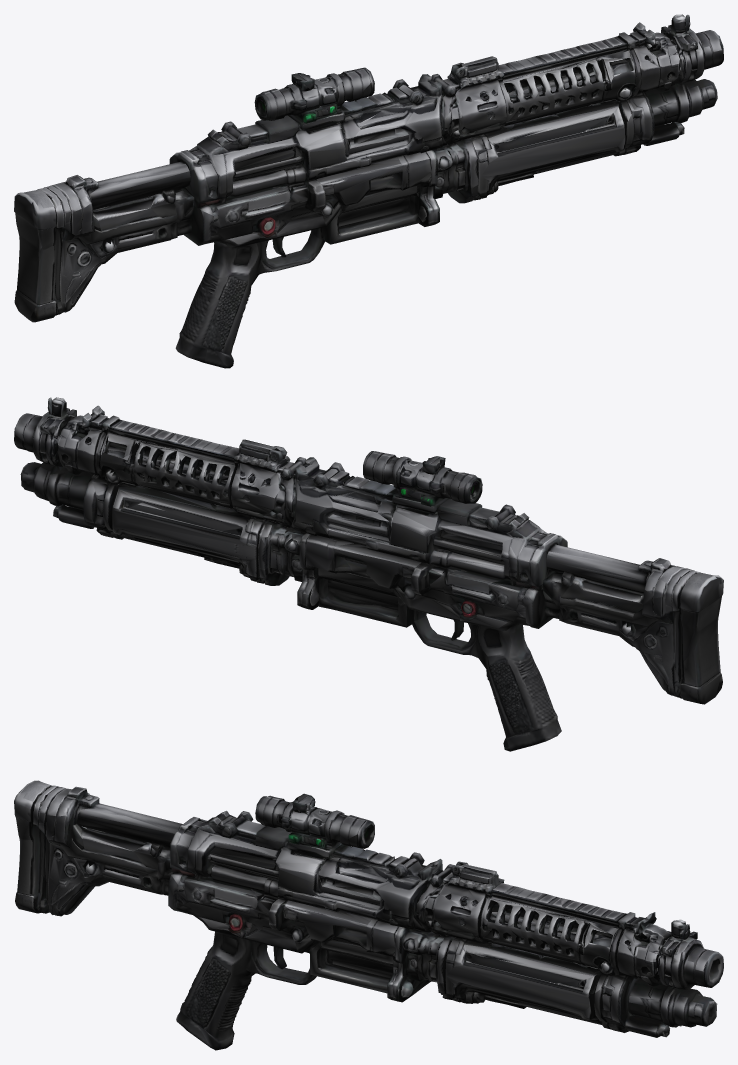
File: SM_Blaster.fbx
The picture shows the model from 3 angles, top to bottom: view 1: azimuth 30°, elevation 25°; view 2: azimuth 150°, elevation 25°; view 3: azimuth 330°, elevation 25°; orthographic projection.
Parts seen in each view (by area): view 1: SM_Blaster; view 2: SM_Blaster; view 3: SM_Blaster.
Part boxes in pixels (<box>): SM_Blaster: <box>14,14,723,368</box>; SM_Blaster: <box>14,397,723,751</box>; SM_Blaster: <box>14,780,723,1050</box>.
Bounding box in the file's own units: 0.6263 × 0.2315 × 0.0798.
